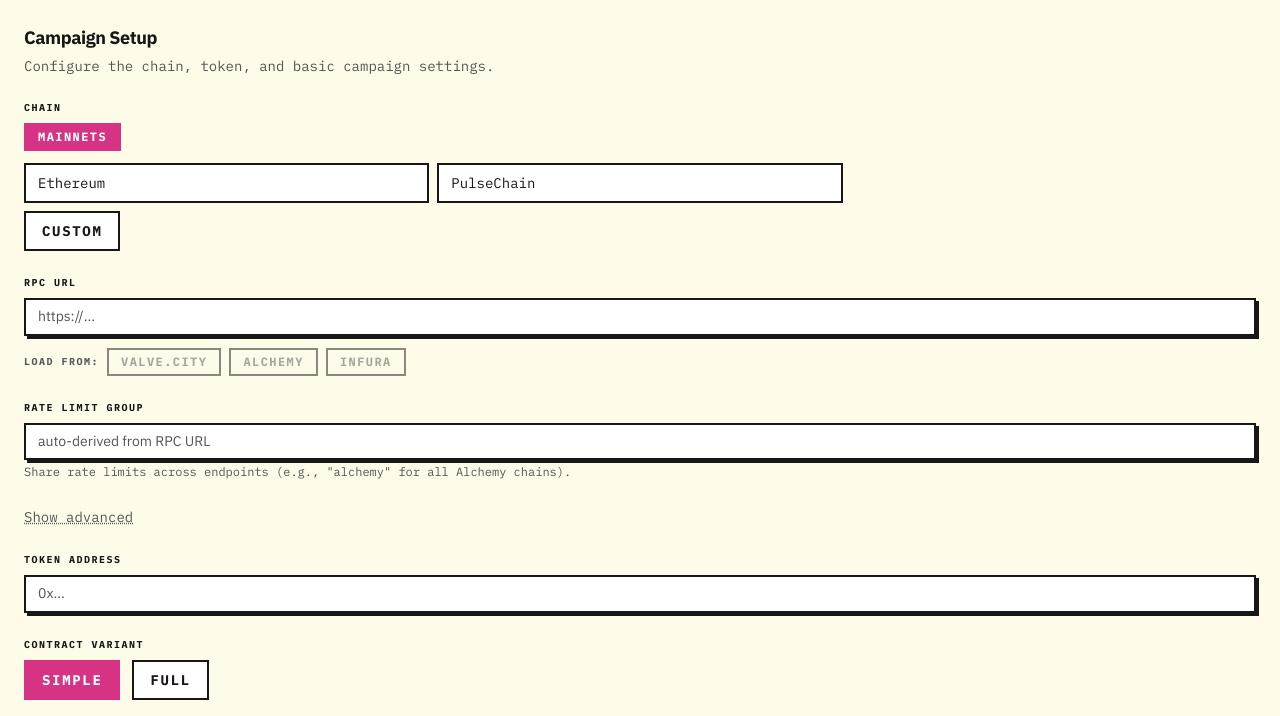
Test: CampaignStep › provider auto-load buttons › reveals an inline key editor with prefix/suffix spans when a provider is picked
Click the button "Ethereum" at (72, 183), box [24,163,429,203]
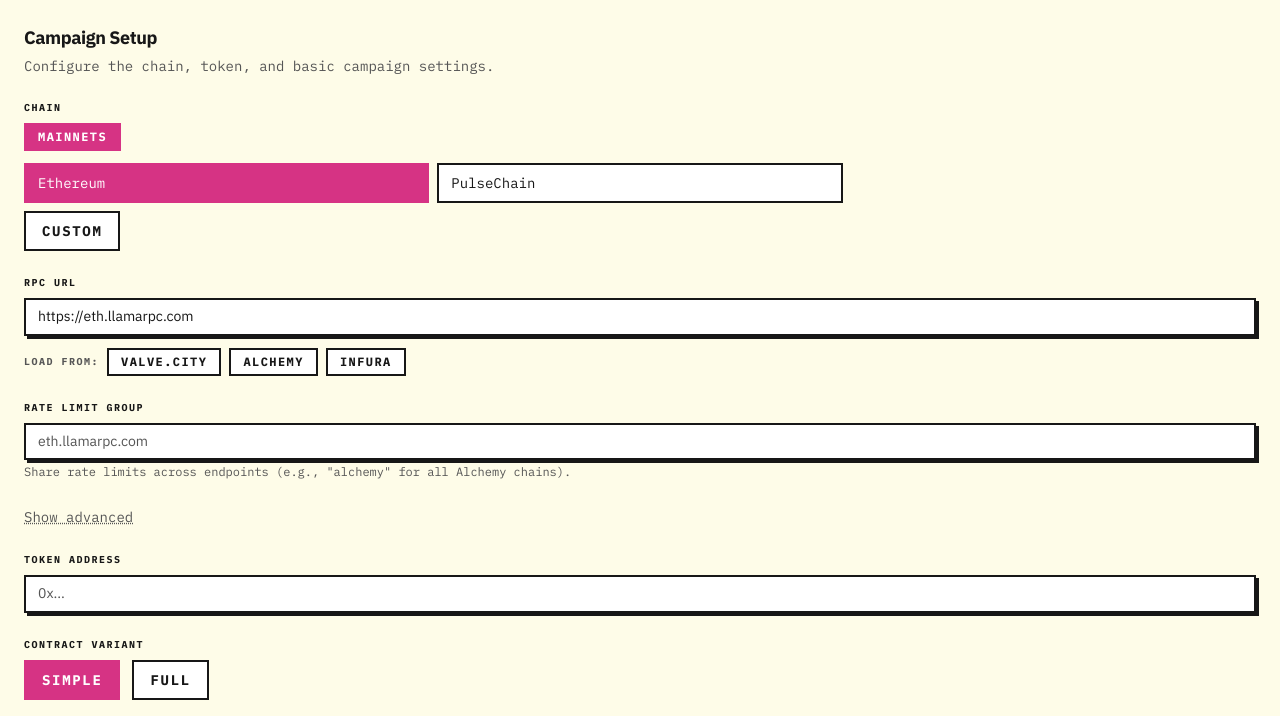
Click the button "Alchemy" at (274, 362), box [229,348,318,376]
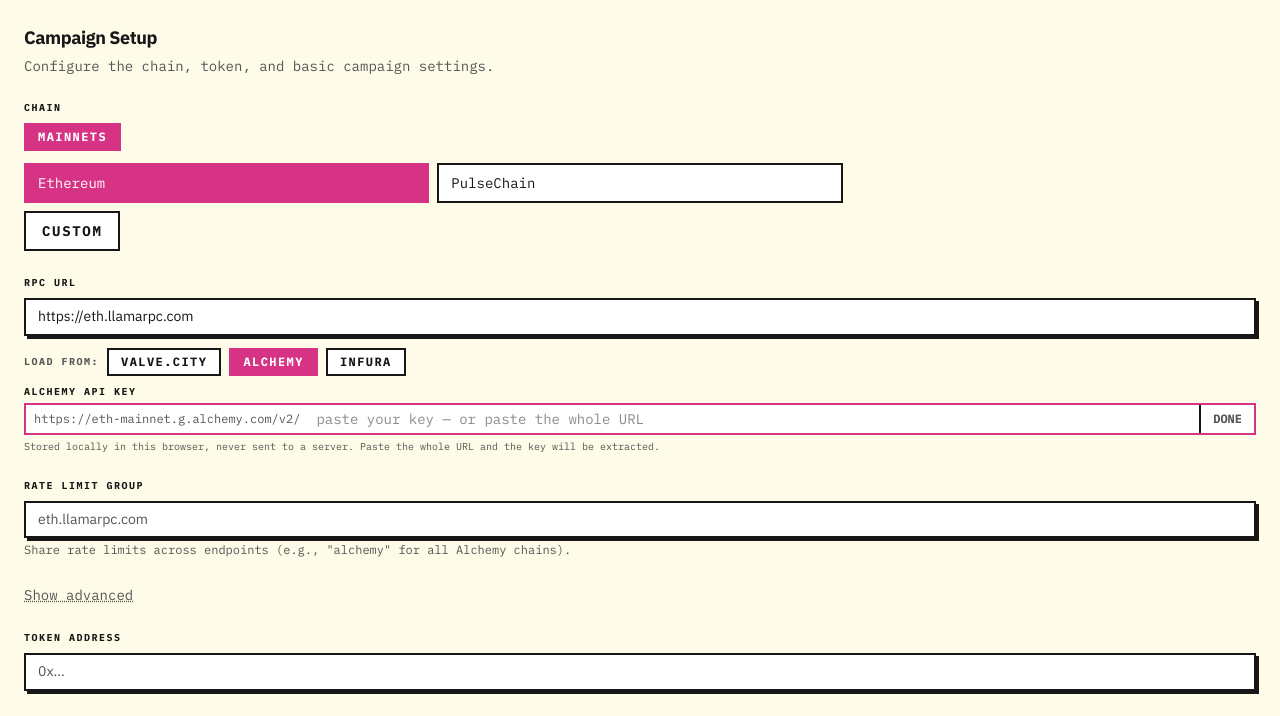
Expected: the field labelled "Alchemy API Key" is shown, [308,404,1199,432]
Expected: the text "https://eth-mainnet.g.alchemy.com/v2/" is shown, [34,410,300,426]
